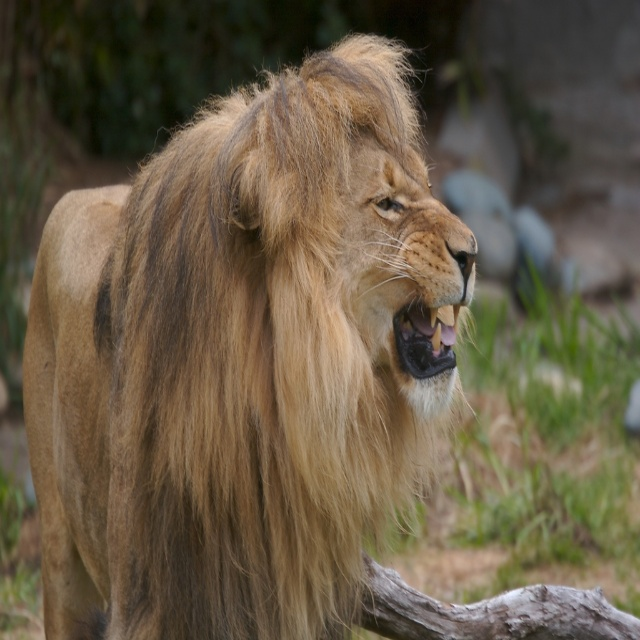Lion: (22, 29, 480, 638)
